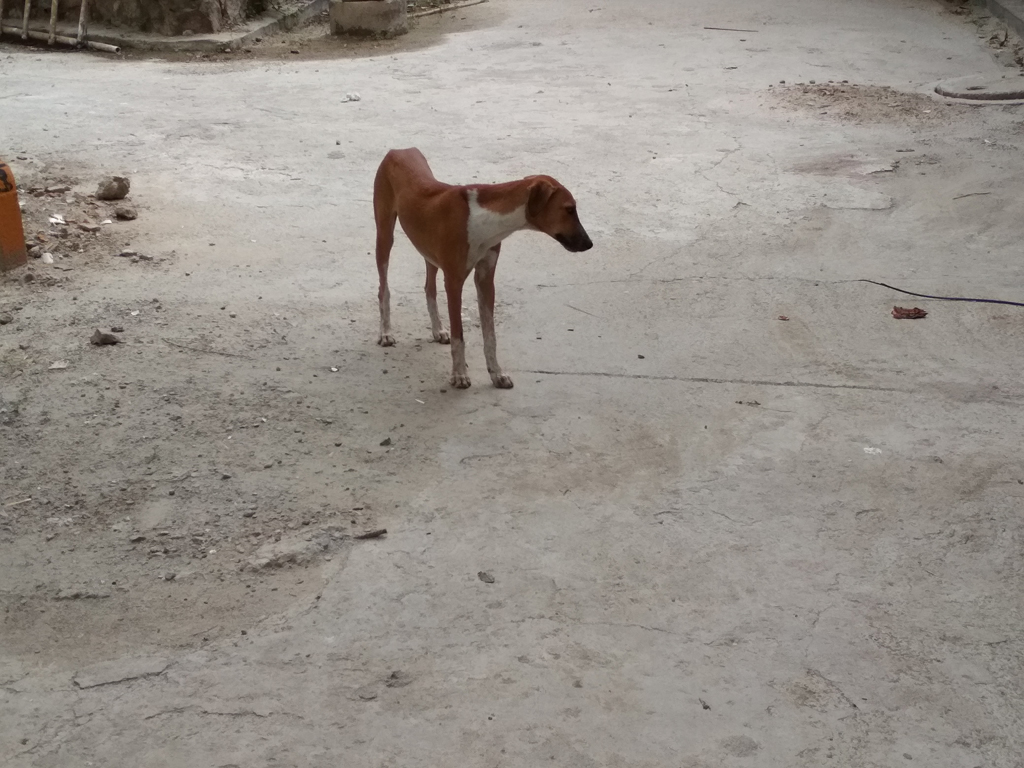dog: (373, 147, 593, 390)
